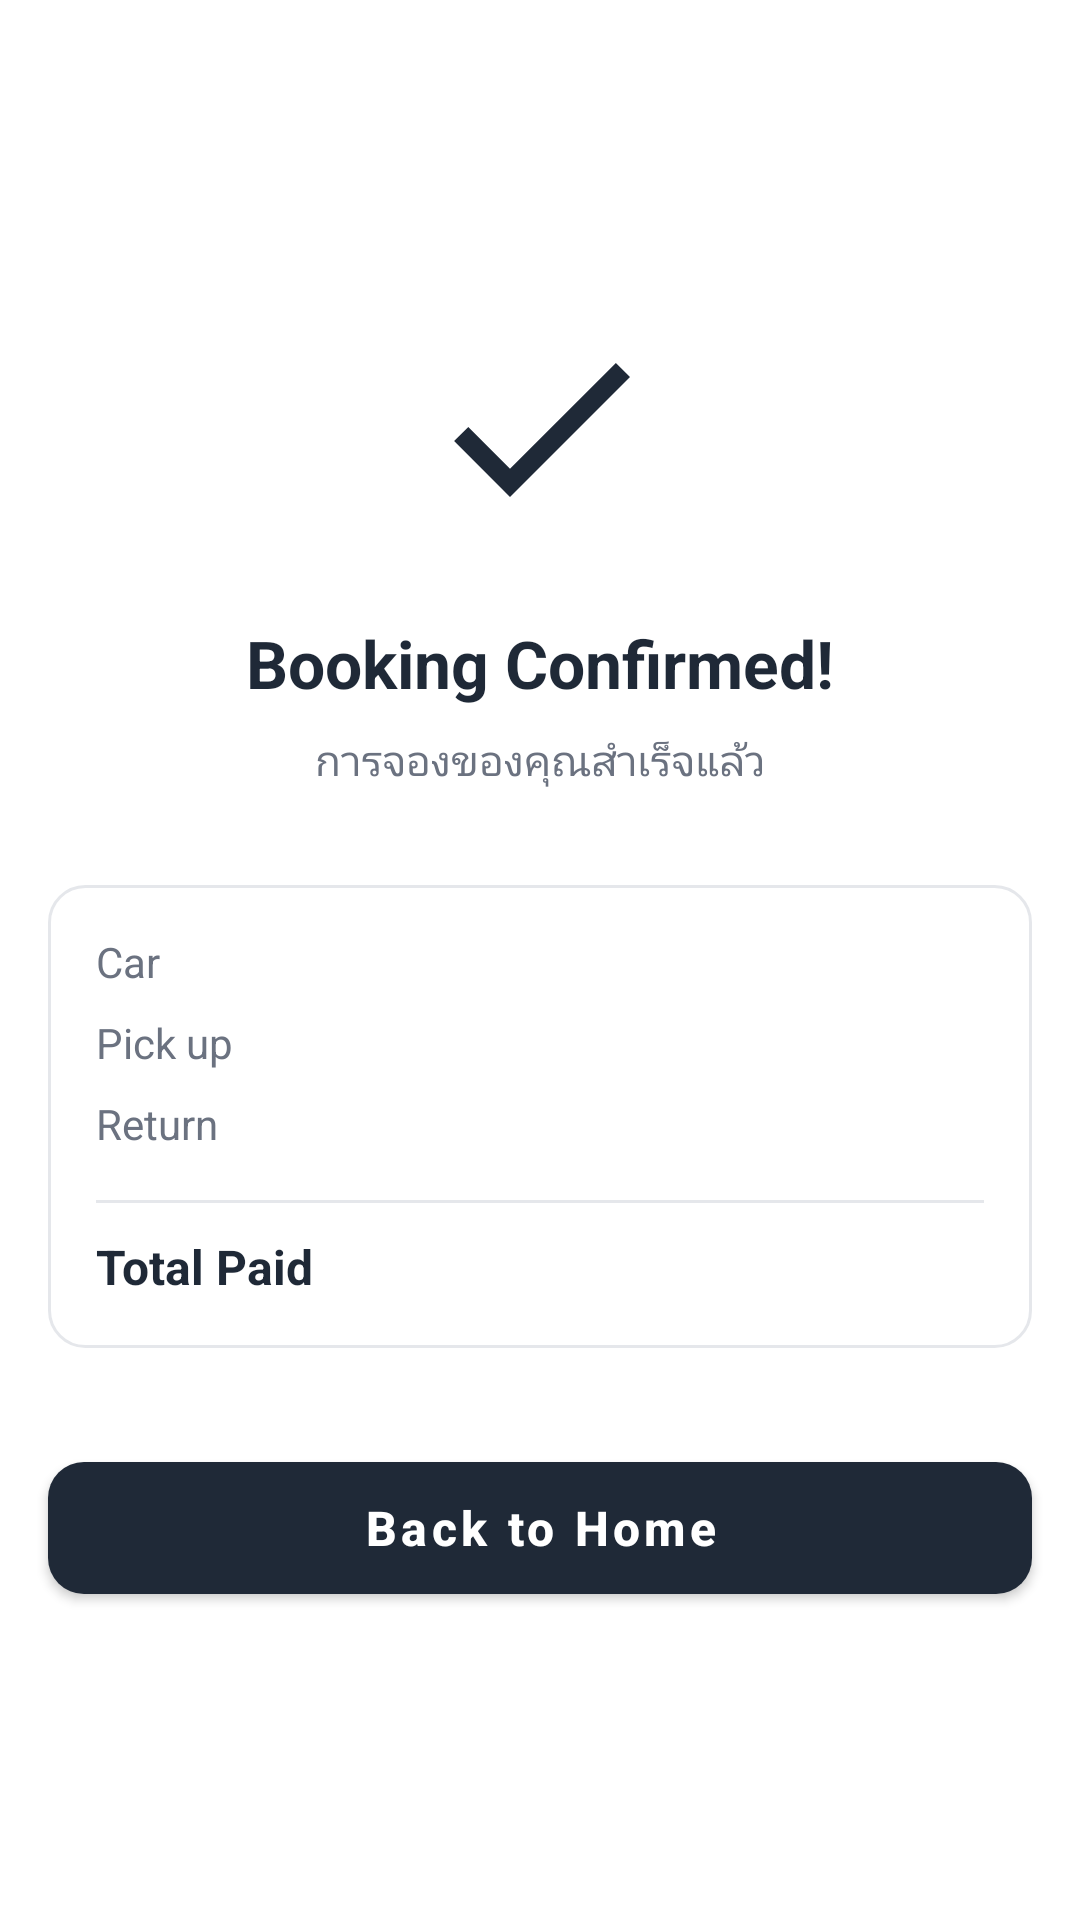

Point at icon controls on the screen. Image size 1080w x 1920h, points as point (x, y).
Success: point (542, 430)
